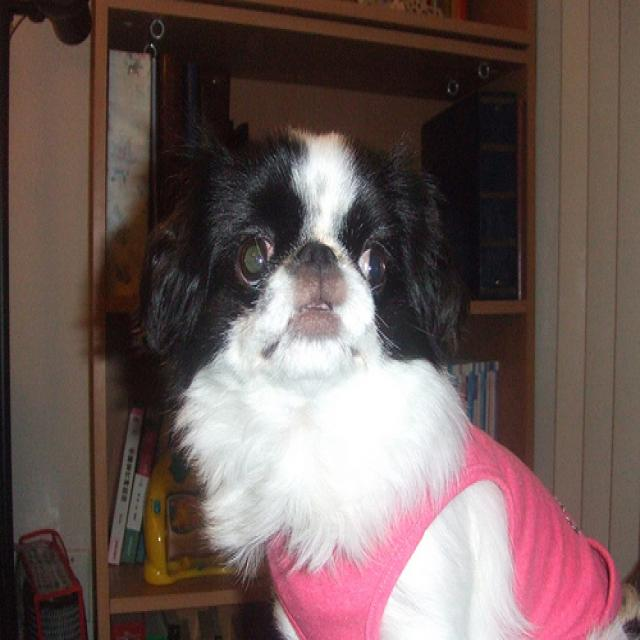dog-japanese_chin: (123, 108, 535, 637)
